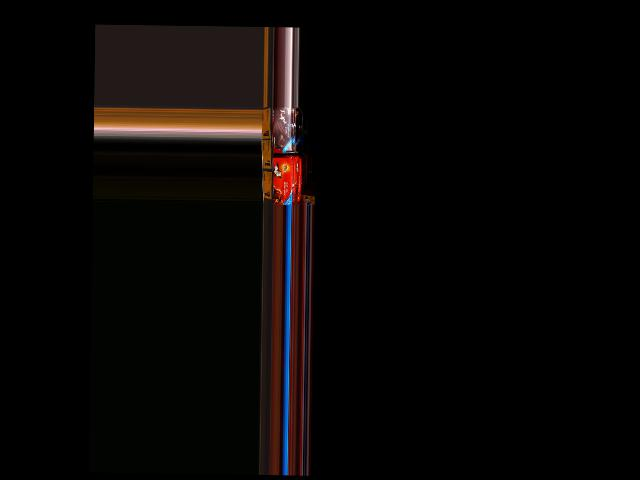chocolate: (267, 106, 295, 149)
